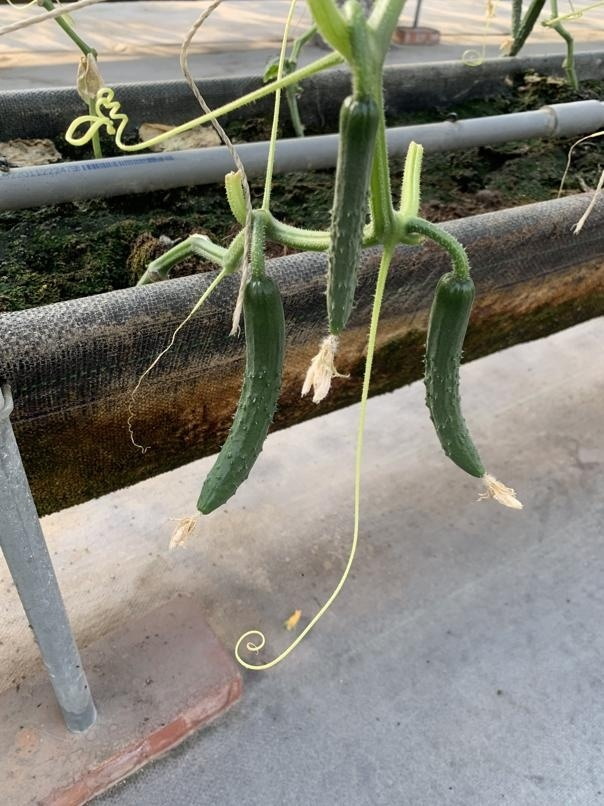growth: (316, 95, 382, 373), (418, 269, 495, 489)
mature: (187, 269, 290, 523)
